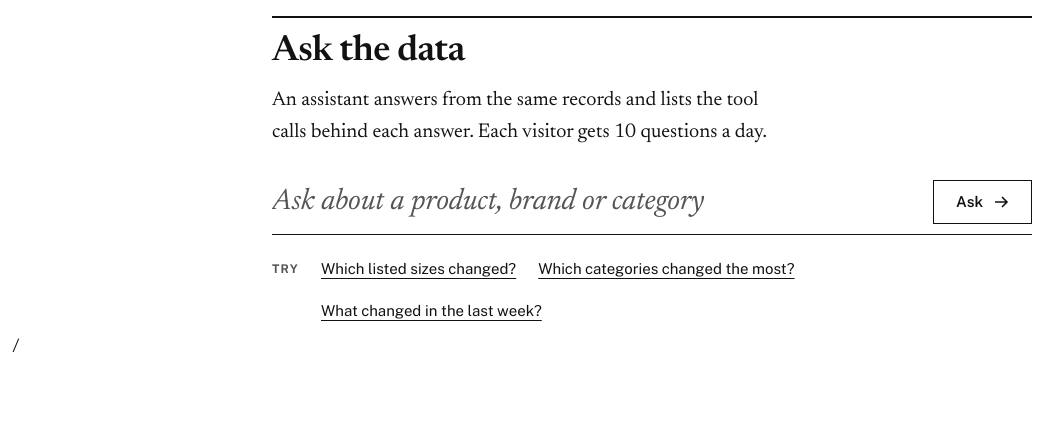
it: AskSection › shows the server's message when the daily budget is used up
In the field named "Your question": x=595, y=206 [272,178,917,234], type "hello there"
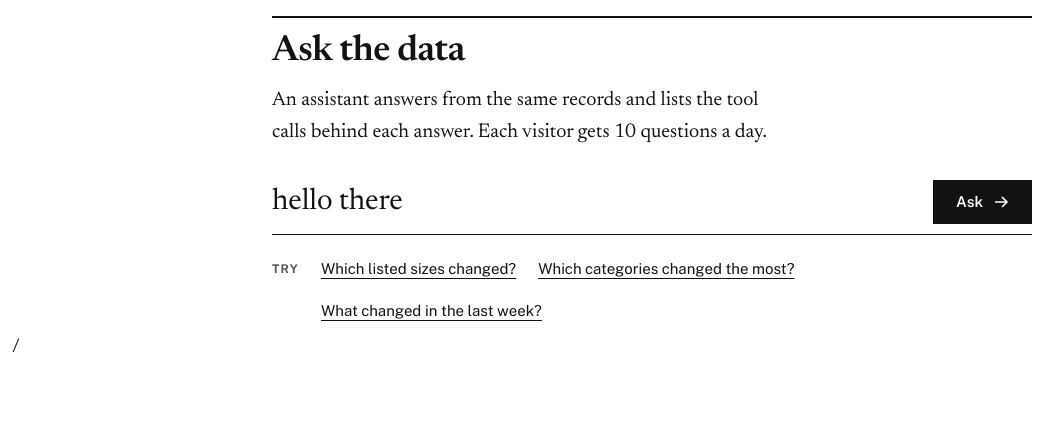
Submit the form named "Your question", box [272,178,1032,235]
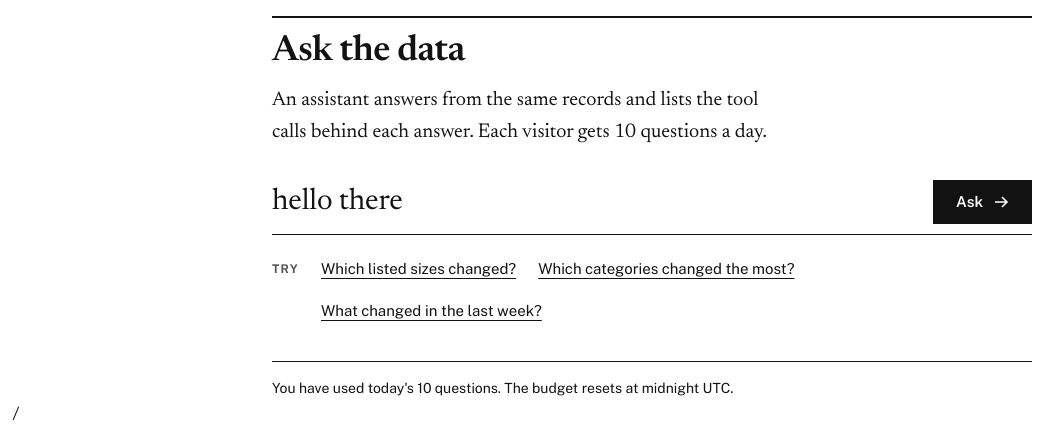
Expected: the button "Ask" is enabled, [933,180,1032,224]
Expected: the message reads "You have used today's 10 questions. The budget resets at midnight UTC.", [272,380,733,396]
